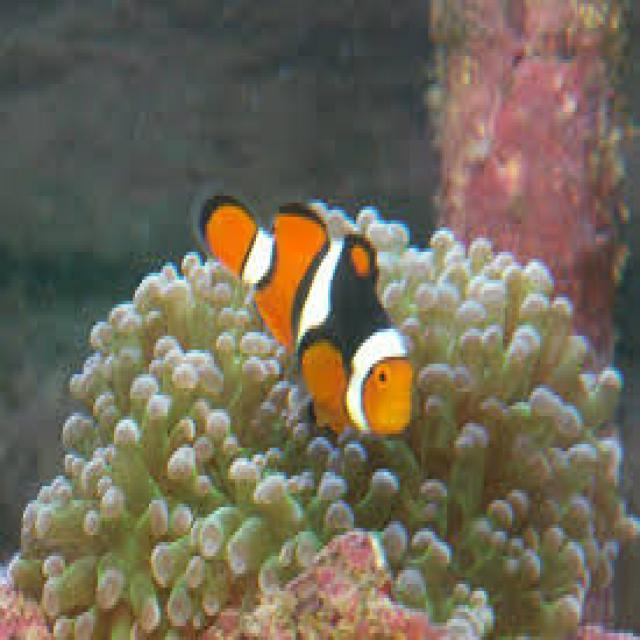ClownFish: (185, 159, 416, 490)
